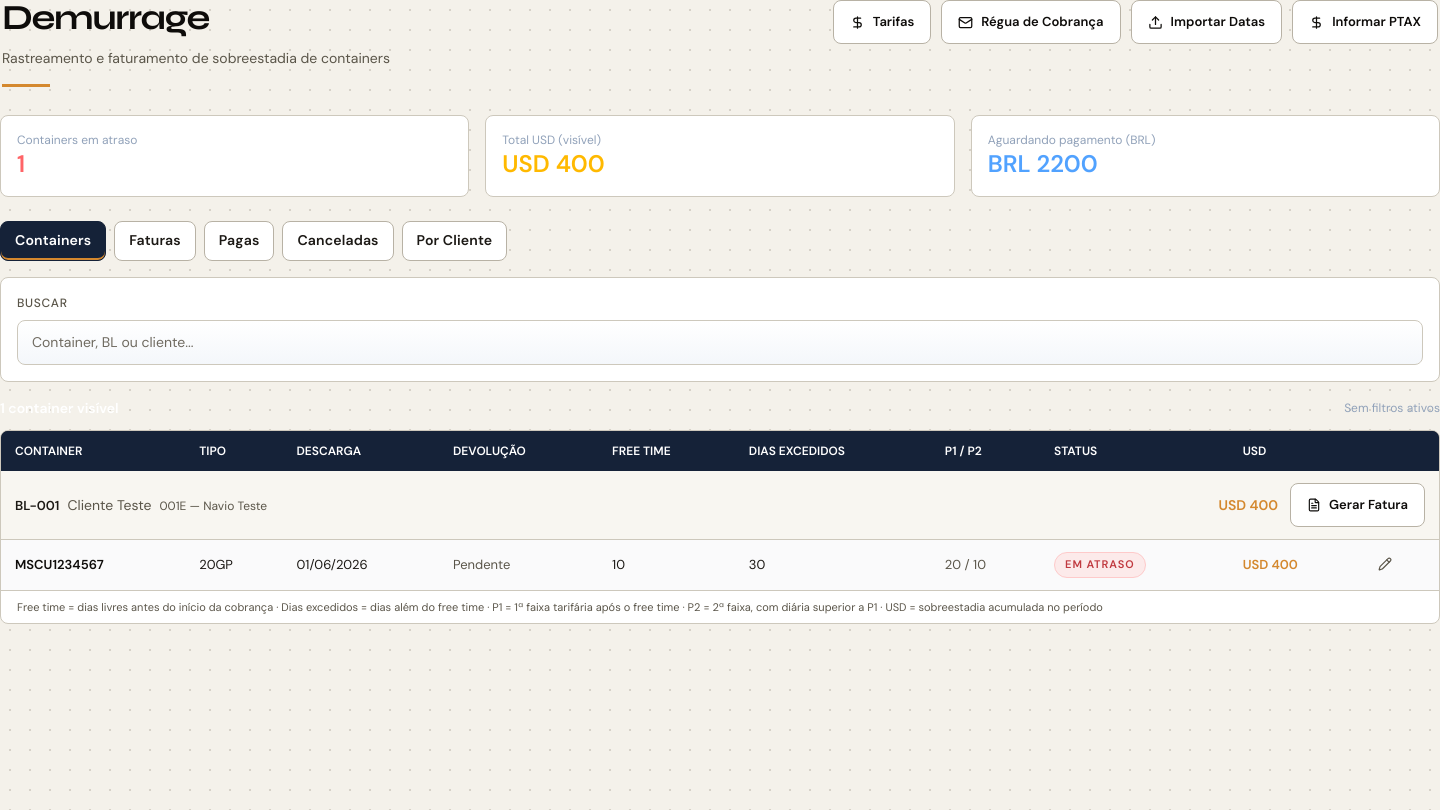
Scenario: Demurrage page behaviours › expands a customer disclosure and opens the printable customer report
What coordinates should you click on to do the following:
click the tab "Por Cliente"
I would click on:
 (454, 241)
Its box is [402,221,507,261].
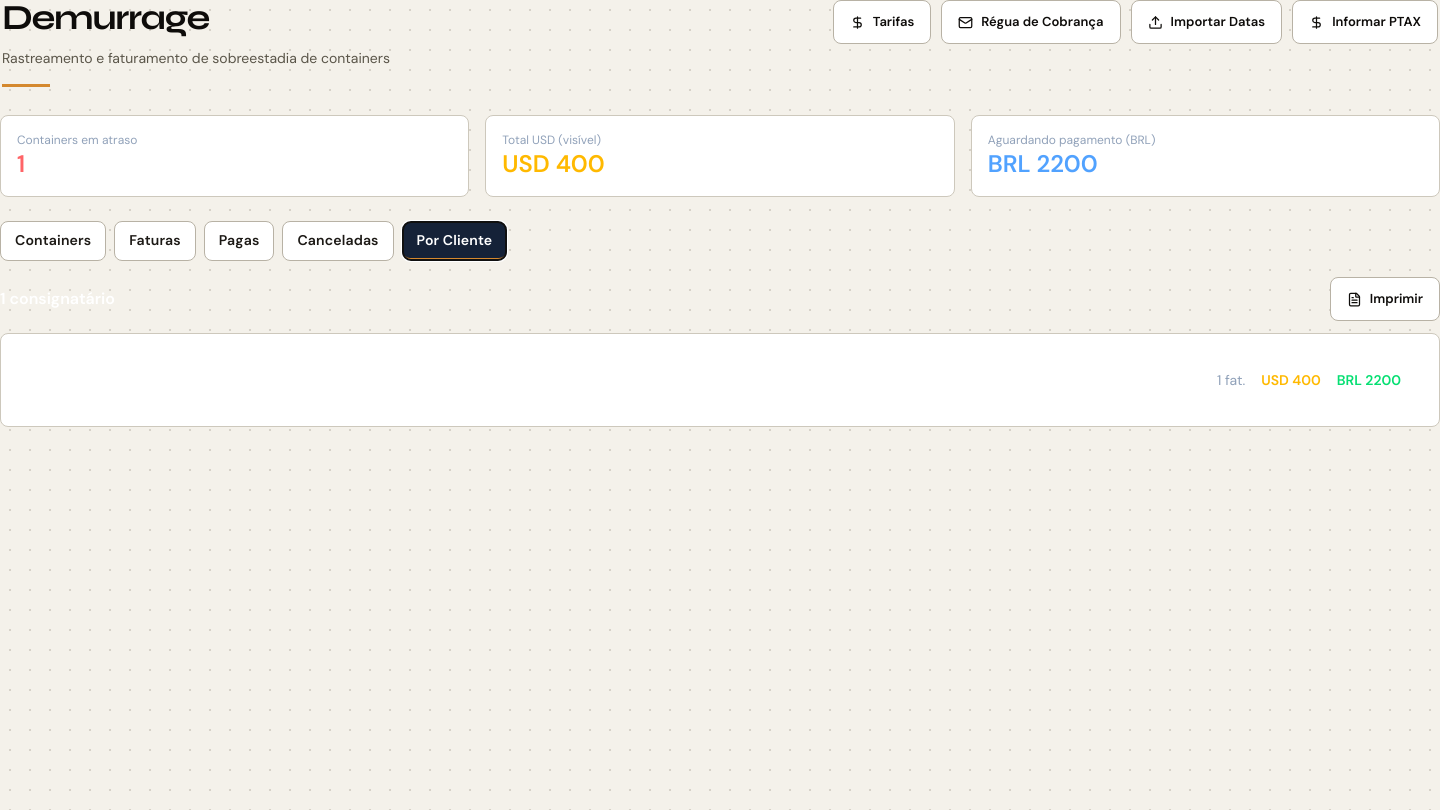
What coordinates should you click on to do the following:
click the button "Cliente Teste 1 fat. USD 400 BRL 2200"
I would click on:
 (88, 380)
Its box is [23,356,1417,404].
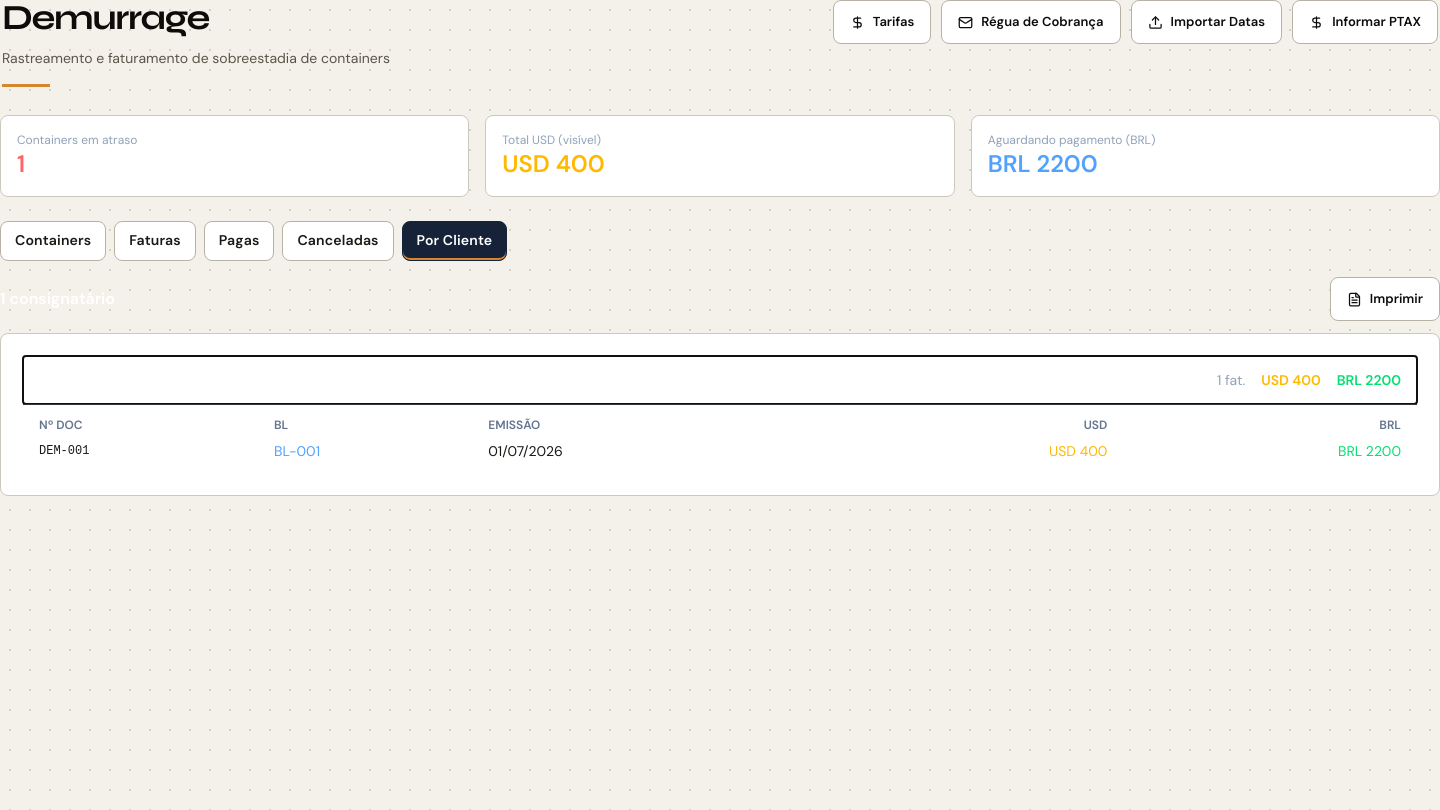
Now the element with id "demurrage-customer-panel-7" is shown, box [23,404,1417,473]
What coordinates should you click on to do the following:
click the button "Imprimir"
I would click on:
 (1385, 299)
Its box is [1330,277,1439,321].
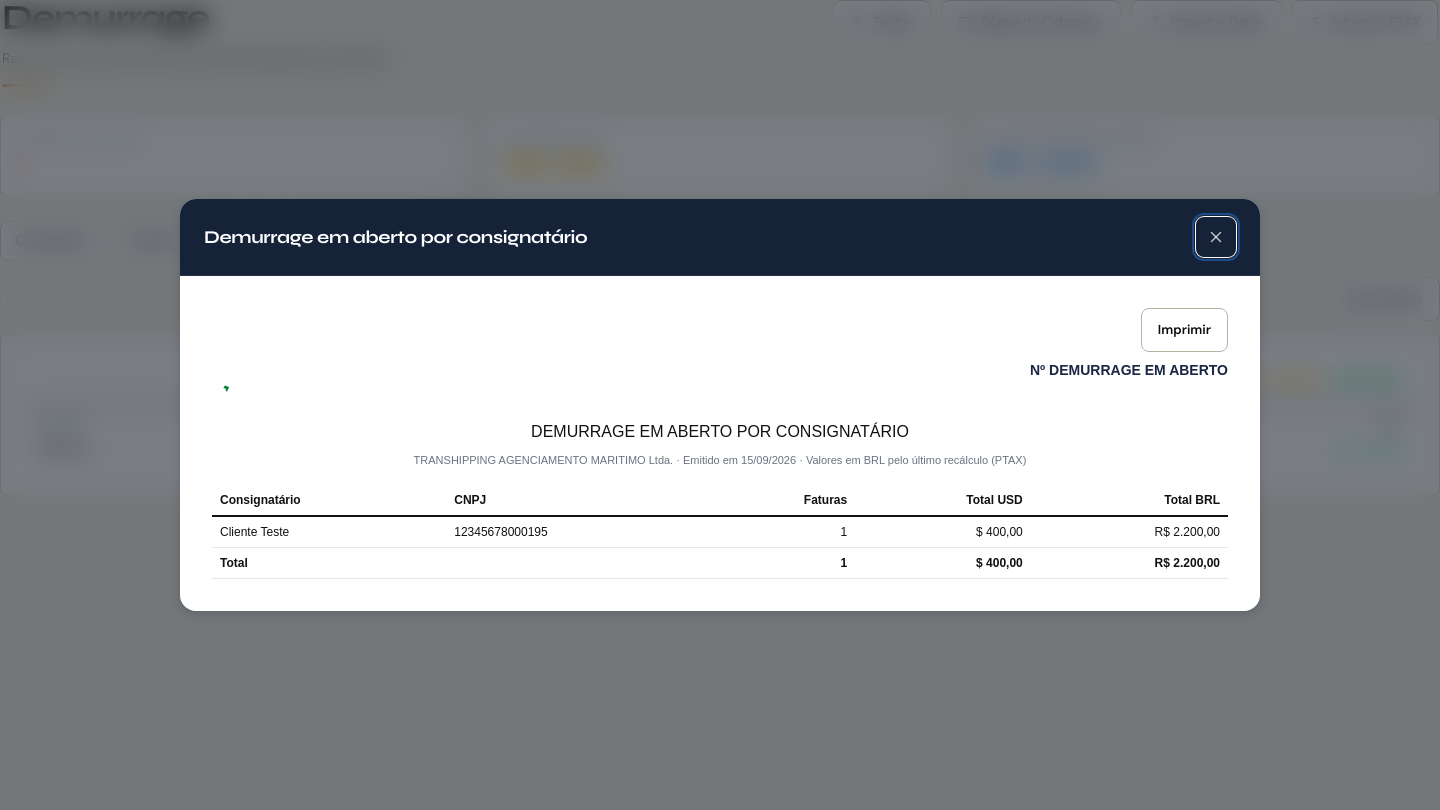
Now the text "Cliente Teste" is shown, box [212,516,446,547]
What coordinates should you click on to do the following:
click the button "Imprimir"
I would click on:
 (1184, 330)
Its box is [1141,308,1228,352].
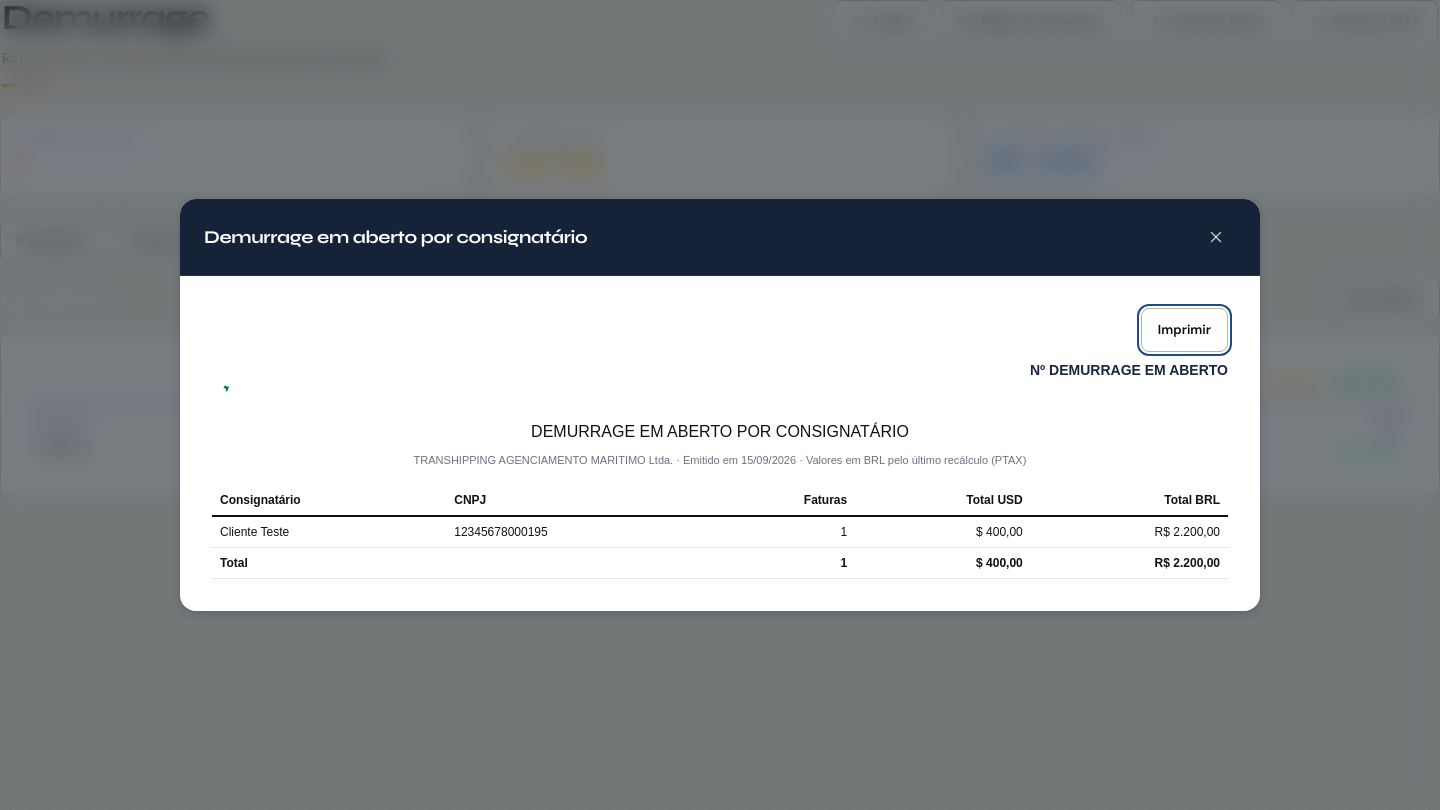
What coordinates should you click on to do the following:
click the button named "Fechar modal"
I would click on:
 (1216, 237)
Its box is [1196,217,1236,257].
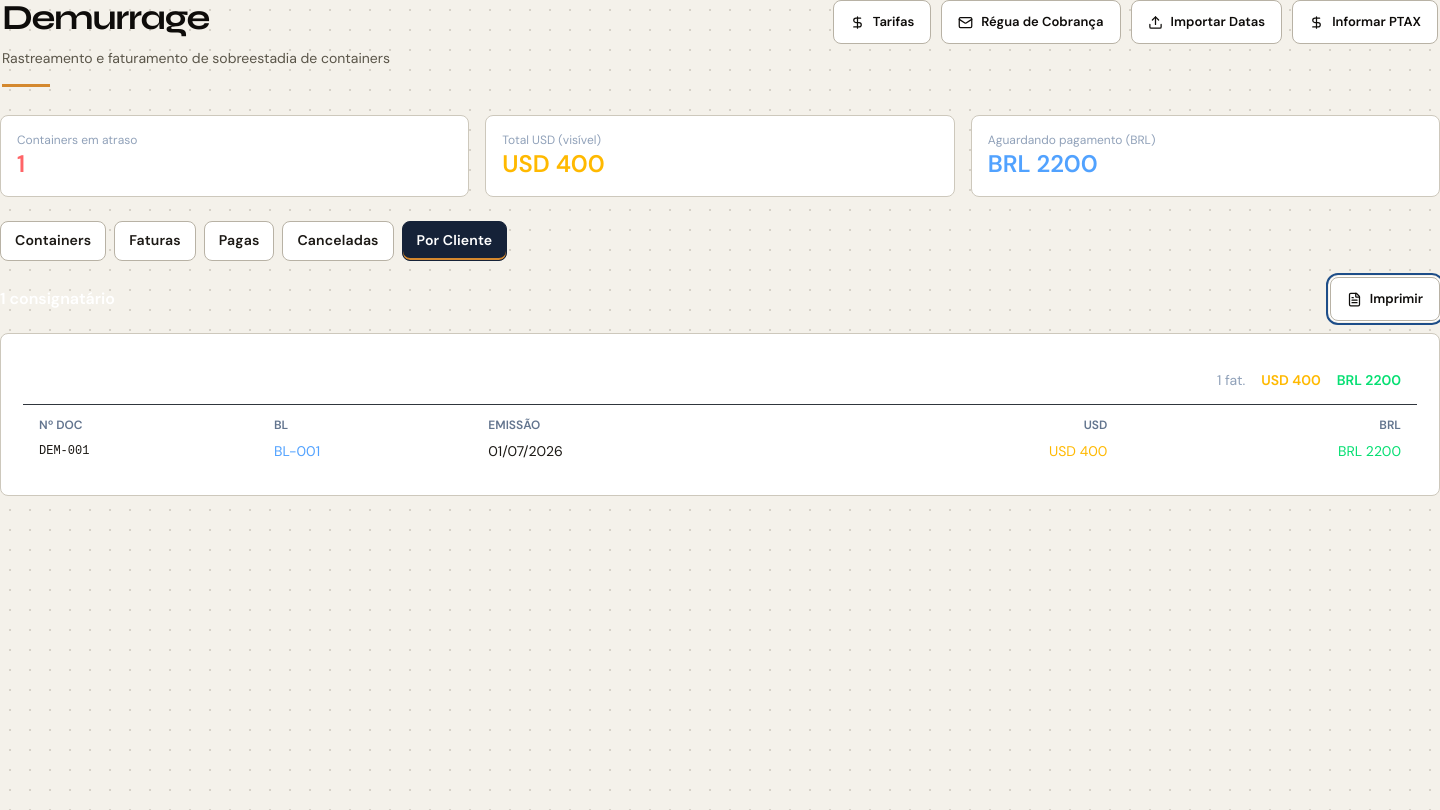
Now the heading "Demurrage em aberto por consignatário" is gone
